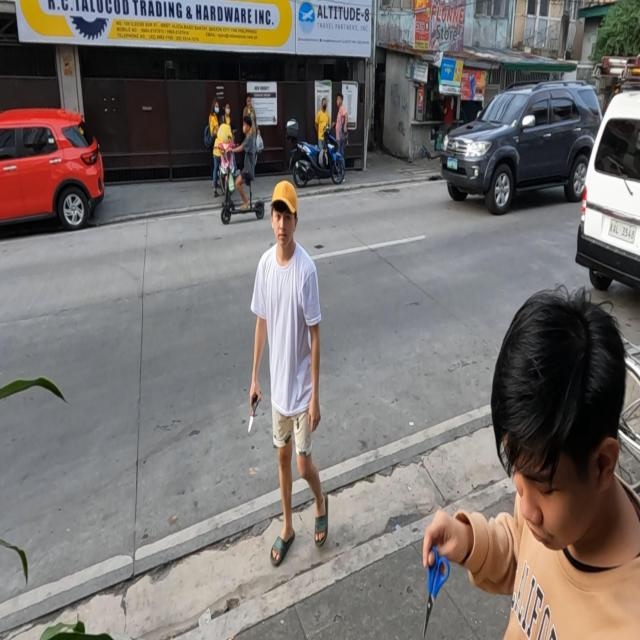scissor: (420, 549, 450, 640)
